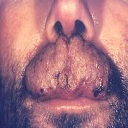Cellulitis: (27, 37, 115, 98)
